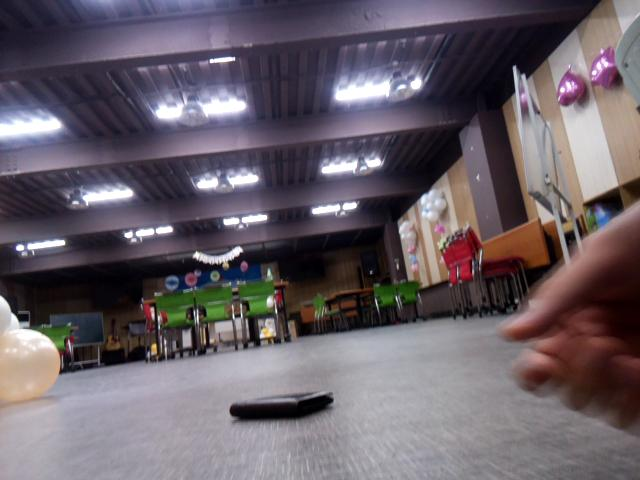wallet: (223, 383, 344, 427)
